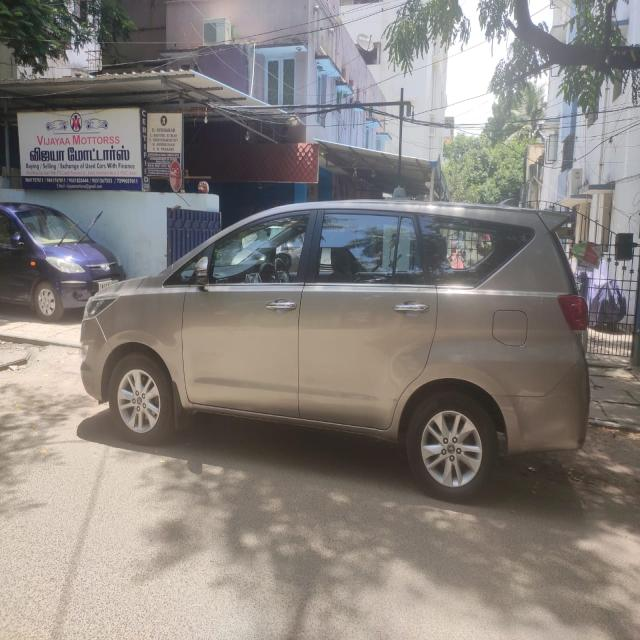light_vehicle: (79, 198, 591, 502)
